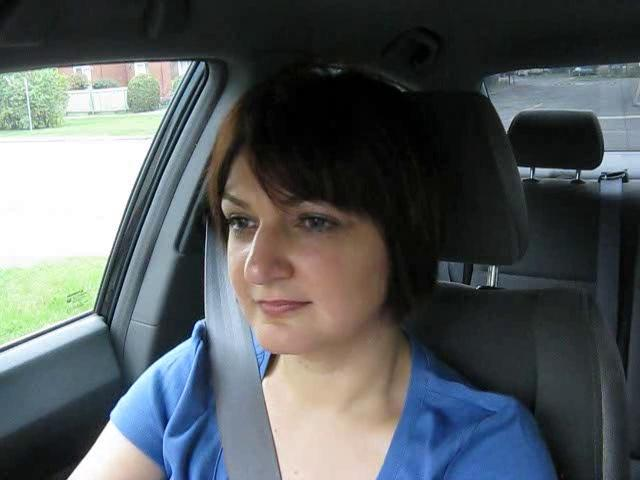no_yawn: (239, 286, 324, 325)
open_eyeL: (217, 208, 265, 239)
open_eyeR: (284, 204, 359, 244)
